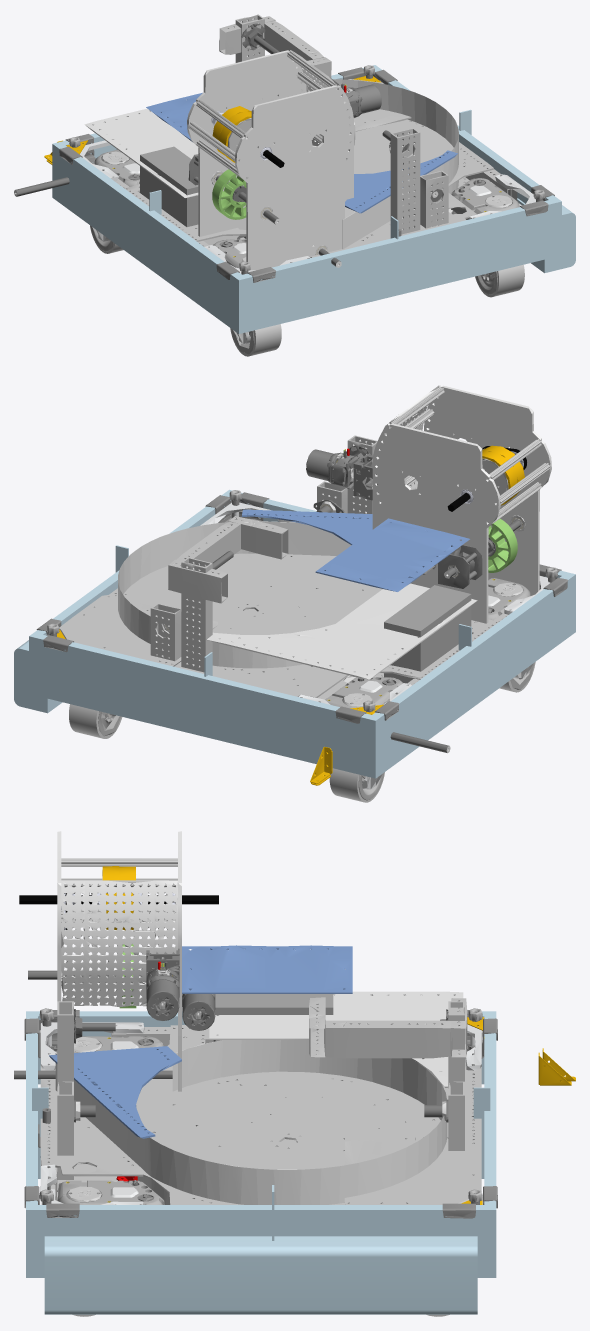
The picture shows the model from 3 angles, top to bottom: view 1: azimuth 30°, elevation 25°; view 2: azimuth 150°, elevation 25°; view 3: azimuth 270°, elevation 25°; orthographic projection. The views are drawn at different scales.
Visible parts, largest first — view 1: geometry_0, geometry_2, geometry_8, geometry_20, geometry_6, geometry_1, geometry_21, geometry_3, geometry_42, geometry_41, geometry_28, geometry_7 (+2 smaller); view 2: geometry_0, geometry_2, geometry_8, geometry_1, geometry_6, geometry_28, geometry_20, geometry_21, geometry_3, geometry_7, geometry_42, geometry_41 (+2 smaller); view 3: geometry_0, geometry_8, geometry_2, geometry_1, geometry_43, geometry_28, geometry_3, geometry_6, geometry_20, geometry_42, geometry_7, geometry_25 (+4 smaller).
Part boxes in pixels (box(x1,y1,x2,y2)): geometry_0: box(52, 65, 575, 333); geometry_2: box(14, 50, 458, 270); geometry_8: box(115, 14, 517, 257); geometry_20: box(90, 149, 519, 354); geometry_6: box(140, 146, 198, 226); geometry_1: box(146, 92, 457, 213); geometry_21: box(90, 88, 524, 356); geometry_3: box(59, 67, 554, 282); geometry_42: box(15, 23, 442, 266); geometry_41: box(212, 169, 246, 219); geometry_28: box(188, 84, 381, 185); geometry_7: box(44, 76, 381, 164); geometry_0: box(14, 489, 575, 778); geometry_2: box(118, 385, 551, 752); geometry_8: box(59, 386, 550, 699); geometry_1: box(241, 509, 469, 591); geometry_6: box(384, 585, 471, 683); geometry_28: box(306, 449, 482, 588); geometry_20: box(98, 518, 534, 800); geometry_21: box(69, 453, 535, 802); geometry_3: box(36, 492, 568, 723); geometry_7: box(57, 445, 524, 785); geometry_42: box(162, 445, 522, 752); geometry_41: box(488, 518, 517, 572); geometry_0: box(26, 1011, 496, 1314); geometry_8: box(40, 858, 481, 1204); geometry_2: box(55, 831, 463, 1204); geometry_1: box(49, 945, 352, 1138); geometry_43: box(61, 880, 177, 1007); geometry_28: box(146, 946, 215, 1030); geometry_3: box(24, 1010, 497, 1218); geometry_6: box(215, 994, 333, 1015); geometry_20: box(55, 1036, 465, 1204); geometry_42: box(14, 970, 448, 1122); geometry_7: box(102, 866, 575, 1204); geometry_25: box(40, 1024, 481, 1204).
Bounding box in the file's own units: 0.8811 × 0.5452 × 0.8575.
